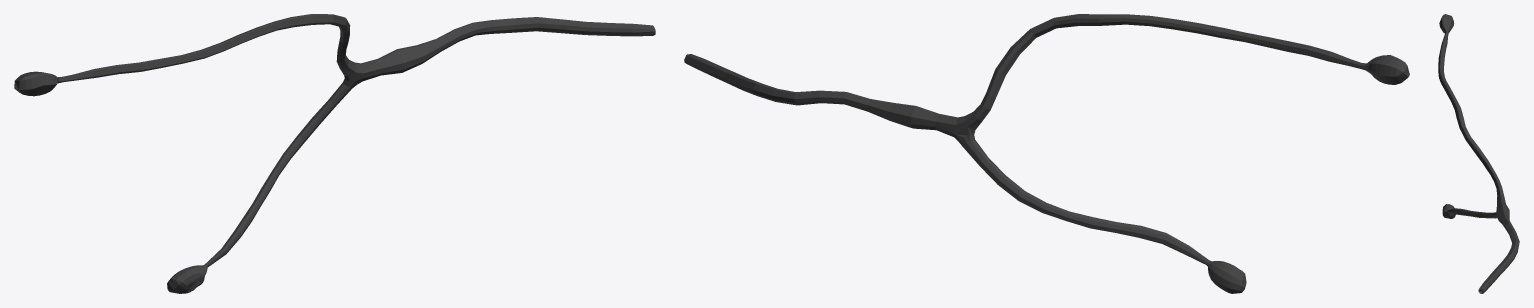
The model's file is uterus_ovaries_LP.glb.
3 views of the same model, side by side, from view 1: azimuth 30°, elevation 25°; view 2: azimuth 150°, elevation 25°; view 3: azimuth 270°, elevation 25° (orthographic). The views are drawn at different scales.
Parts seen in each view (by area): view 1: uterus_ovaries_LP; view 2: uterus_ovaries_LP; view 3: uterus_ovaries_LP.
Boxes of the visible parts, x1,y1,x2,y2 form: uterus_ovaries_LP: (14,14,655,293); uterus_ovaries_LP: (684,14,1409,293); uterus_ovaries_LP: (1438,14,1519,293).
Size of the model in its own units: 3.96 by 1.47 by 0.6888.
1 material, 1 textured.
